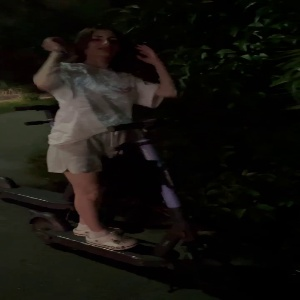human on a scooter: (23, 19, 235, 285)
